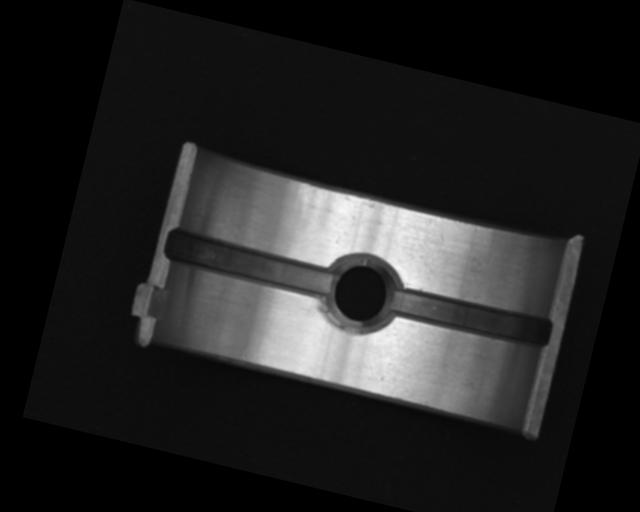gap: (162, 223, 336, 302), (387, 282, 554, 351)
hole: (313, 243, 409, 344)
